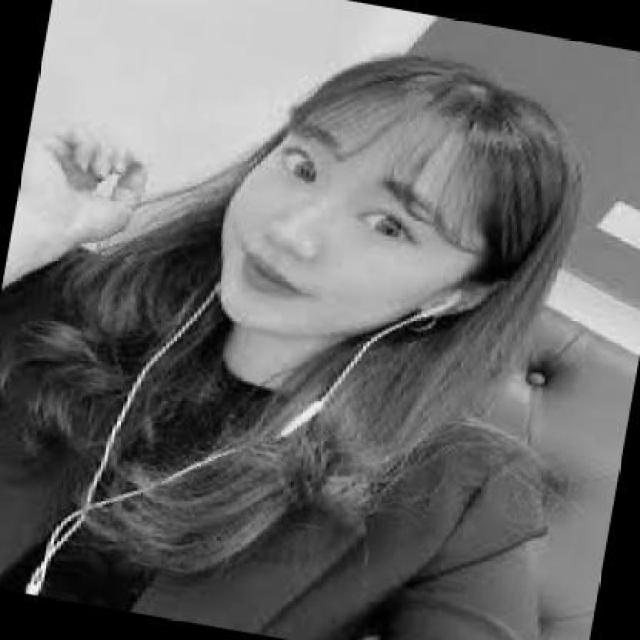earphone: (379, 280, 470, 364)
